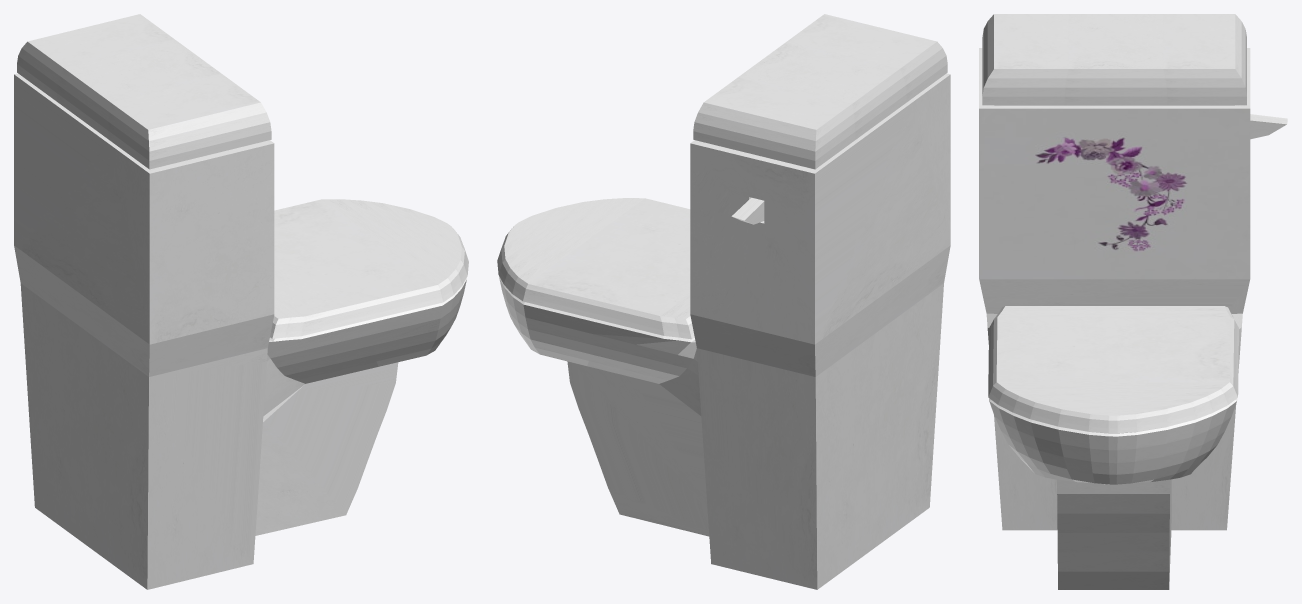
File: toilet.obj
3 renders of one model, left to right at view 1: azimuth 30°, elevation 25°; view 2: azimuth 150°, elevation 25°; view 3: azimuth 270°, elevation 25°, orthographic.
Parts seen in each view (by area): view 1: Cube; view 2: Cube; view 3: Cube.
Part boxes in pixels (box(x1,y1,x2,y2)): Cube: box(14, 14, 468, 589); Cube: box(497, 14, 950, 589); Cube: box(979, 14, 1287, 589).
Bounding box in the file's own units: 2.74 × 3.26 × 1.97.
1 material, 1 textured.
